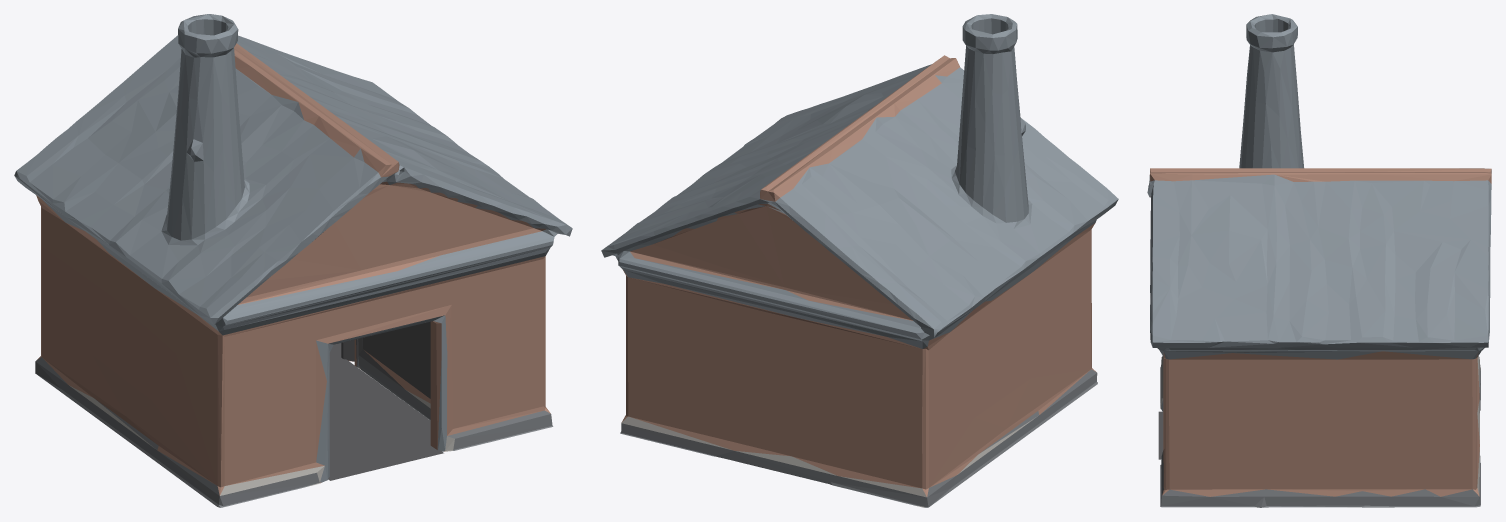
3 renders of one model, left to right at view 1: azimuth 30°, elevation 25°; view 2: azimuth 150°, elevation 25°; view 3: azimuth 270°, elevation 25°, orthographic. The views are drawn at different scales.
Parts seen in each view (by area): view 1: geometry_0; view 2: geometry_0; view 3: geometry_0.
Part boxes in pixels (box(x1,y1,x2,y2)): geometry_0: box(14, 14, 572, 507); geometry_0: box(601, 14, 1118, 507); geometry_0: box(1147, 14, 1491, 507).
Size of the model in its own units: 0.8689 by 0.9652 by 0.8249.
